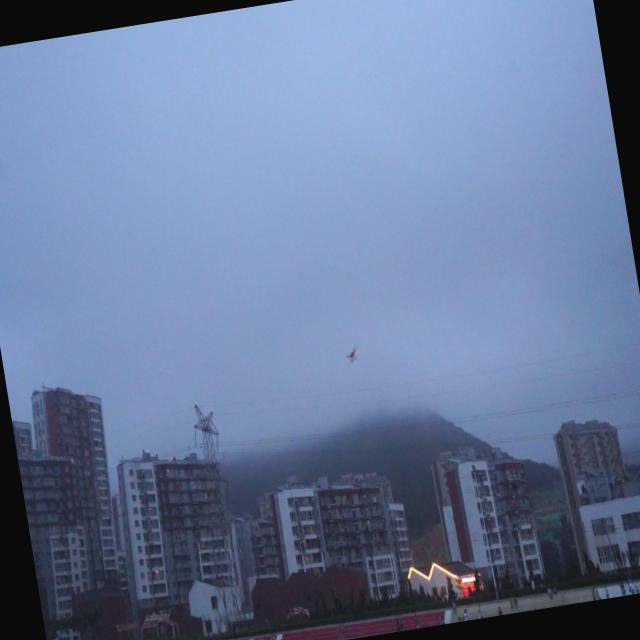drone: (344, 342, 362, 366)
